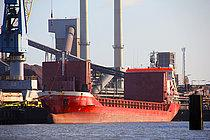Ship: (36, 60, 184, 124)
